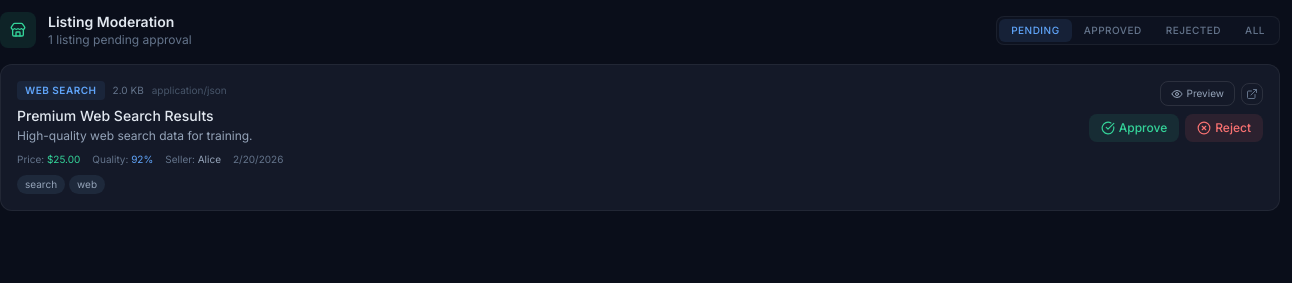
Test: ListingModeration › reject button opens reason input
Step 1. Click the button "Reject" → [1224, 128], box [1185, 114, 1263, 142]
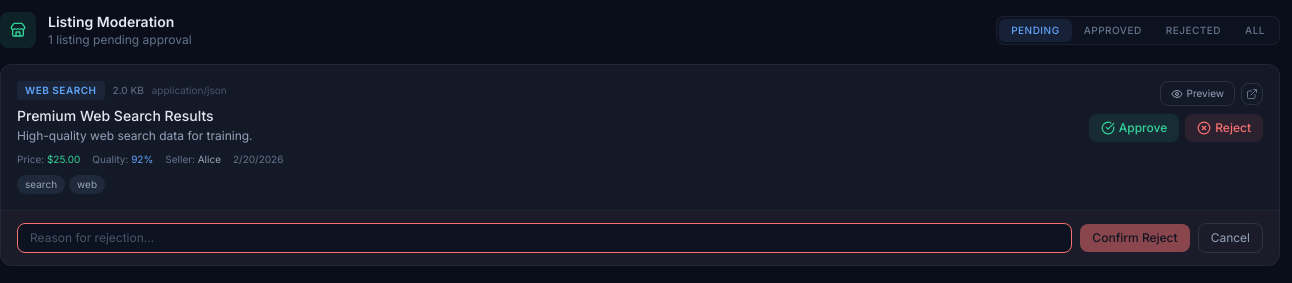
Expected: the field with placeholder "Reason for rejection..." is shown, [17, 223, 1072, 253]
Expected: the button "Confirm Reject" is shown, [1080, 224, 1190, 252]
Expected: the button "Cancel" is shown, [1198, 223, 1263, 253]
